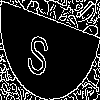S: (25, 25, 52, 78)
